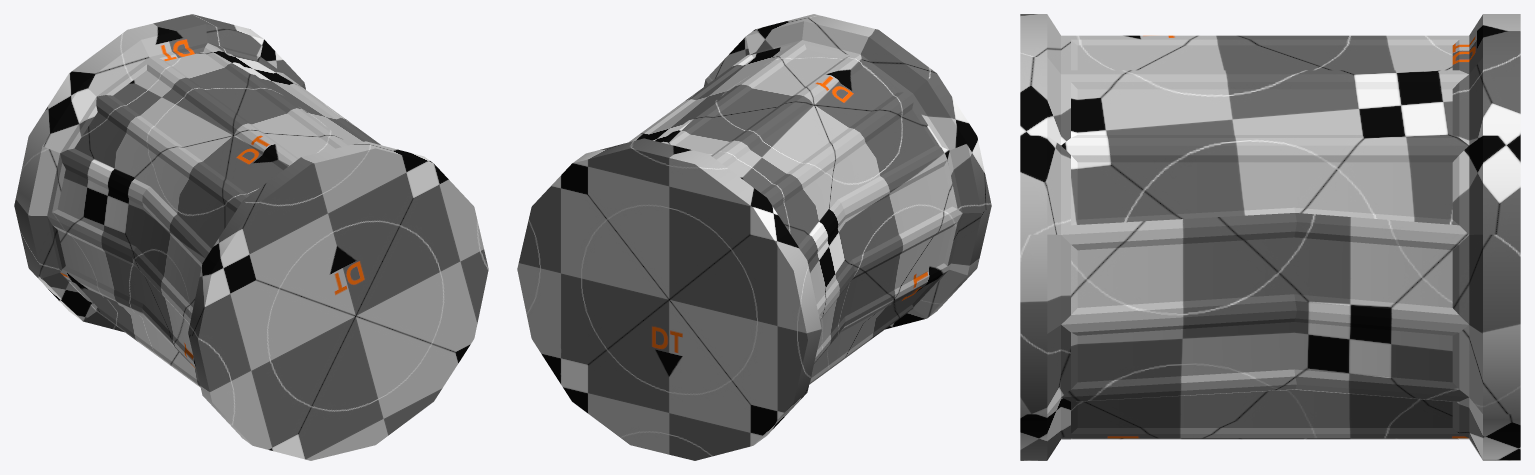
Rendered from corps-poubelle.FBX.
3 renders of one model, left to right at view 1: azimuth 30°, elevation 25°; view 2: azimuth 150°, elevation 25°; view 3: azimuth 270°, elevation 25°, orthographic. The views are drawn at different scales.
Visible parts, largest first — view 1: poubelle; view 2: poubelle; view 3: poubelle.
Boxes of the visible parts, x1,y1,x2,y2 form: poubelle: (14, 14, 488, 460); poubelle: (517, 14, 991, 460); poubelle: (1020, 14, 1520, 460).
Bounding box in the file's own units: 39.65 × 38.66 × 43.37.
1 material, 1 textured.
